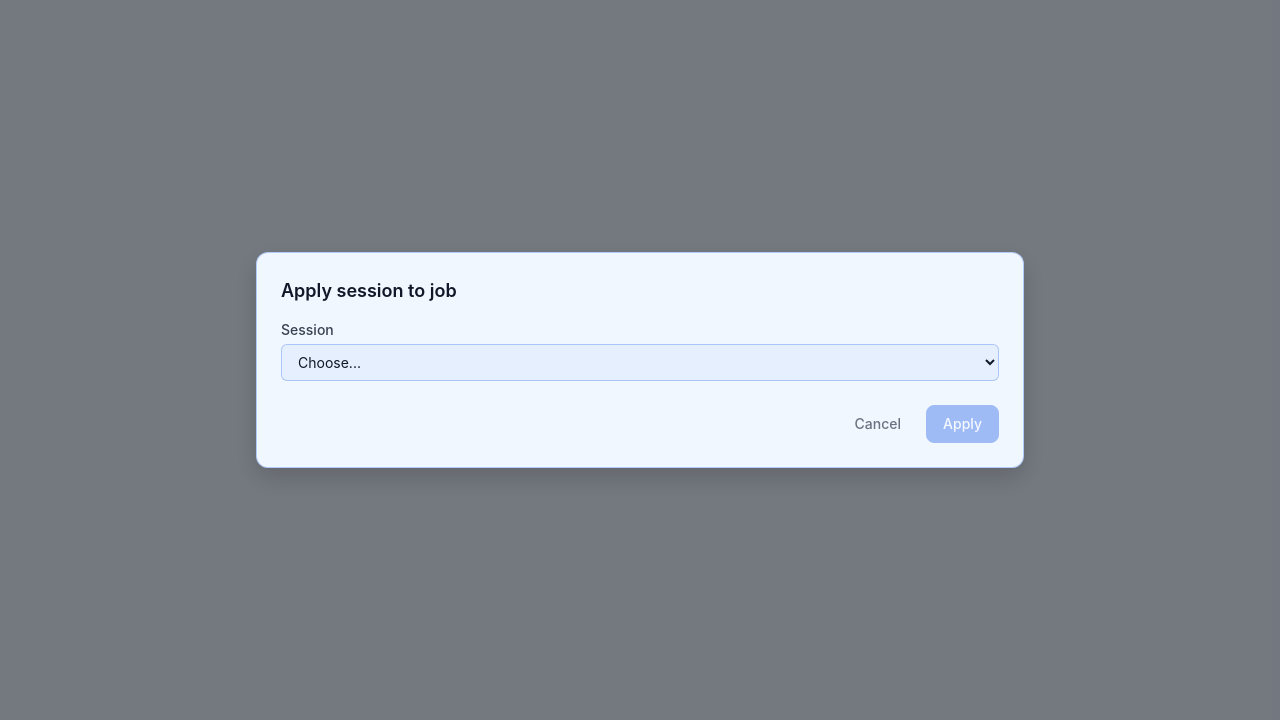
Scenario: ApplySessionDialog › does not append an owner suffix when existing_job_id matches the current job or is unset
Step 1. Select "Movie MKV (movie)" in the dropdown with test id "apply-session-select" → [640, 362], box [281,344,999,381]
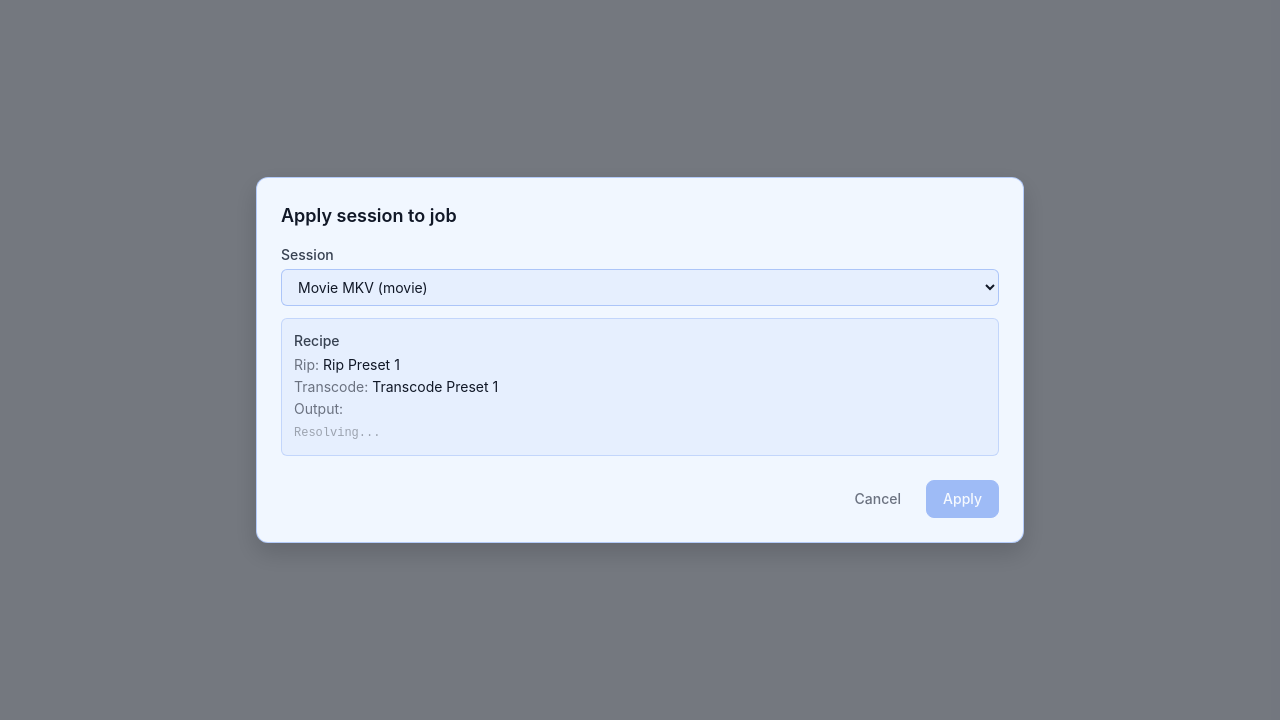
Step 2. Click the button with test id "apply-session-apply" → [963, 499], box [926,480,999,518]
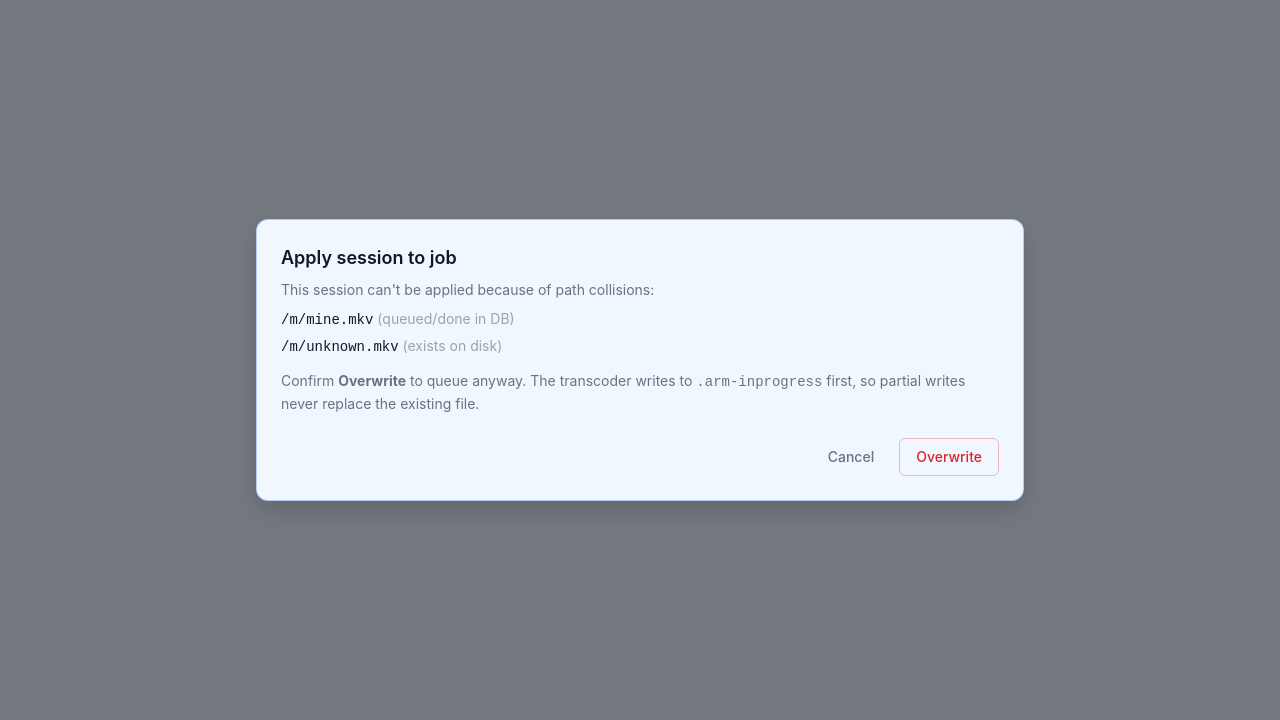
Check: the text "/m/mine.mkv" is shown, box [281,312,373,328]
